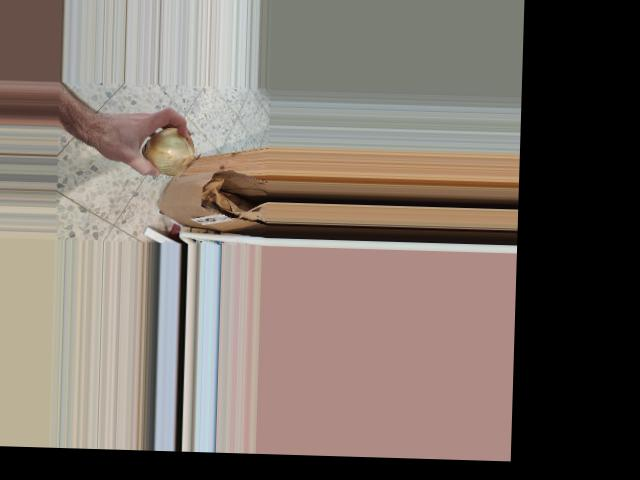onion: (141, 124, 201, 179)
